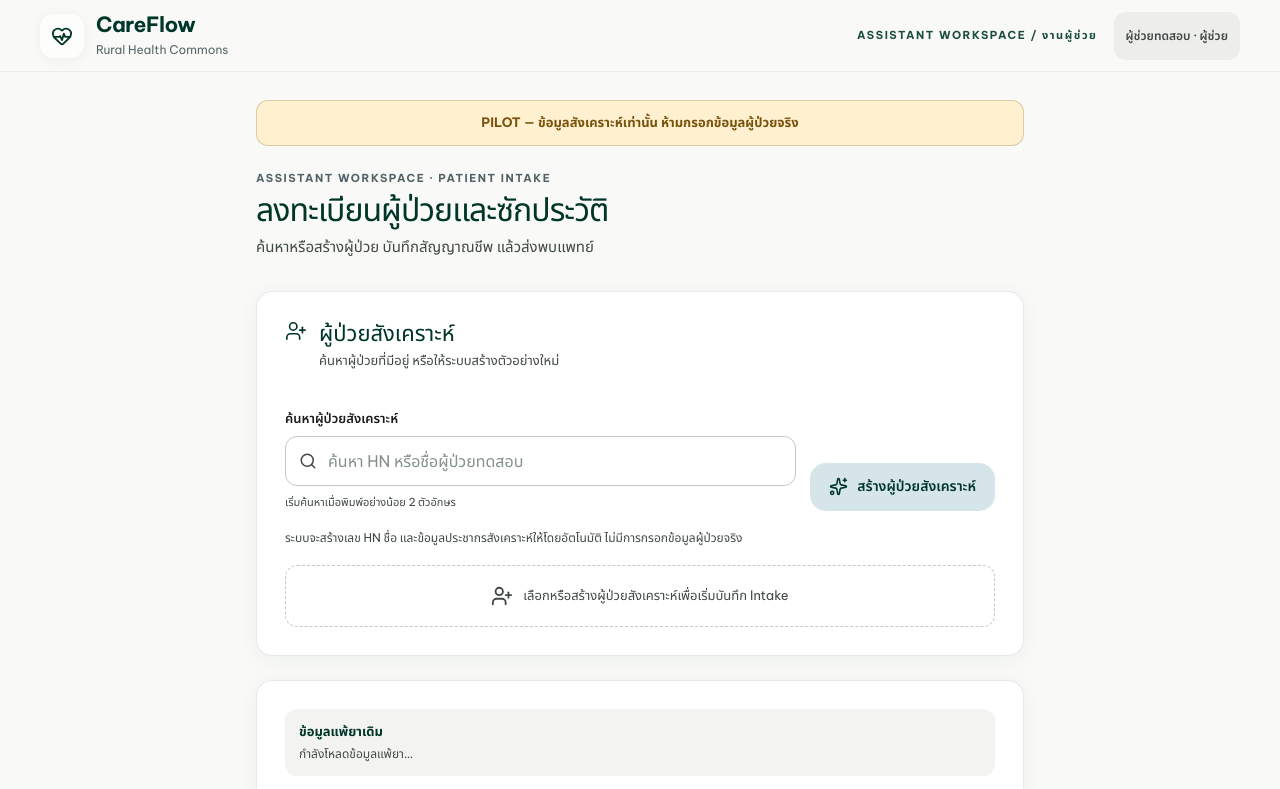
Test case: connected Intake journey › requires a reason before changing a resolved Allergy assessment during Intake
The image size is (1280, 789).
Type "000123" into the field at (541, 461), box [285, 436, 796, 486]
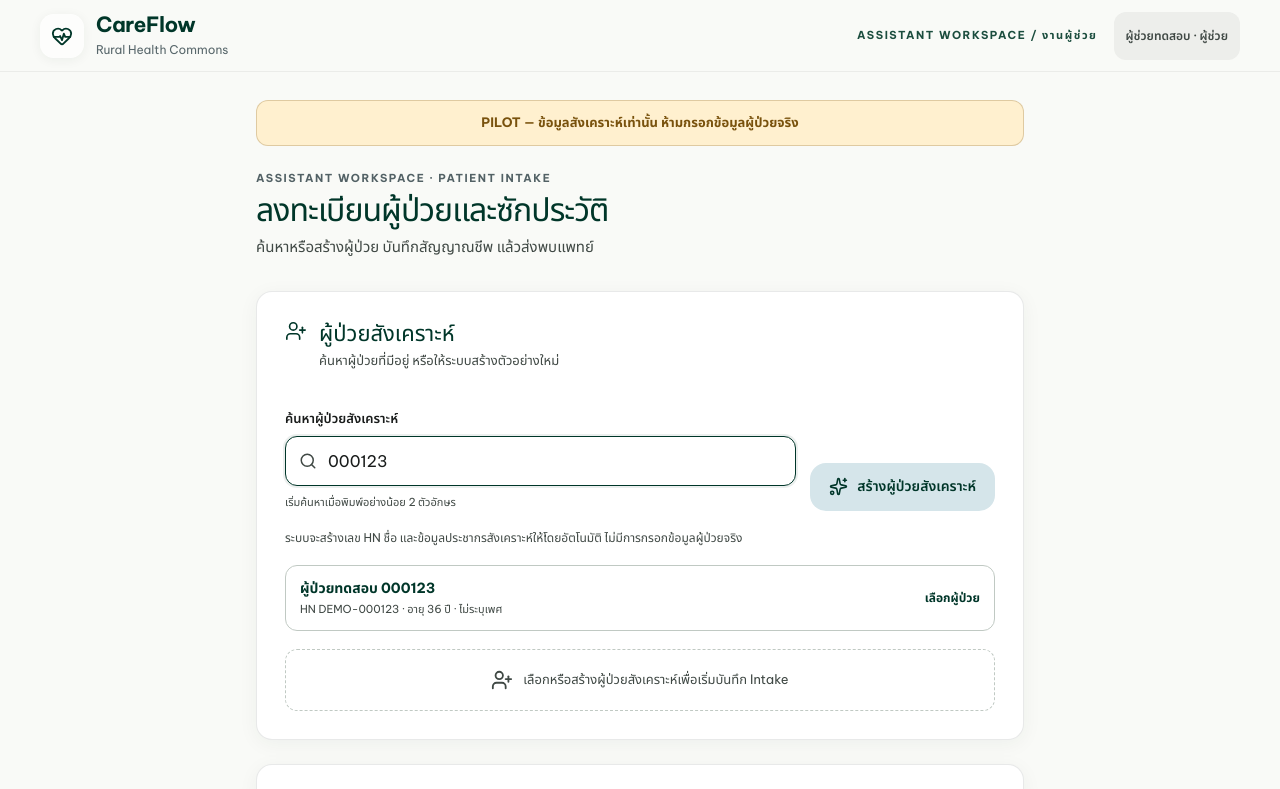
expect the text "ผู้ป่วยทดสอบ 000123" is shown: met, box [300, 579, 435, 597]
Click the button "เลือกผู้ป่วย" at (368, 588), box [286, 566, 994, 630]
(page scrolled)
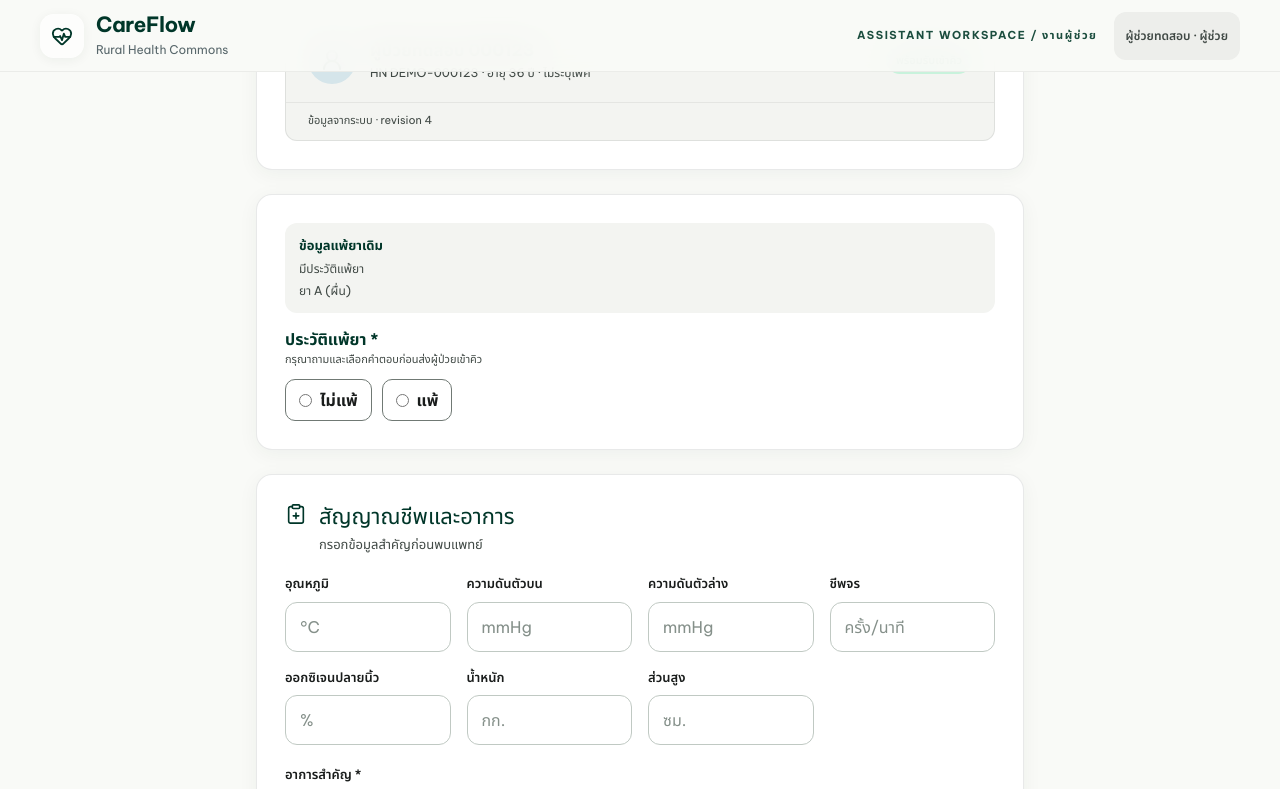
Click the radio button labelled "ไม่แพ้" at (306, 400), box [299, 394, 312, 407]
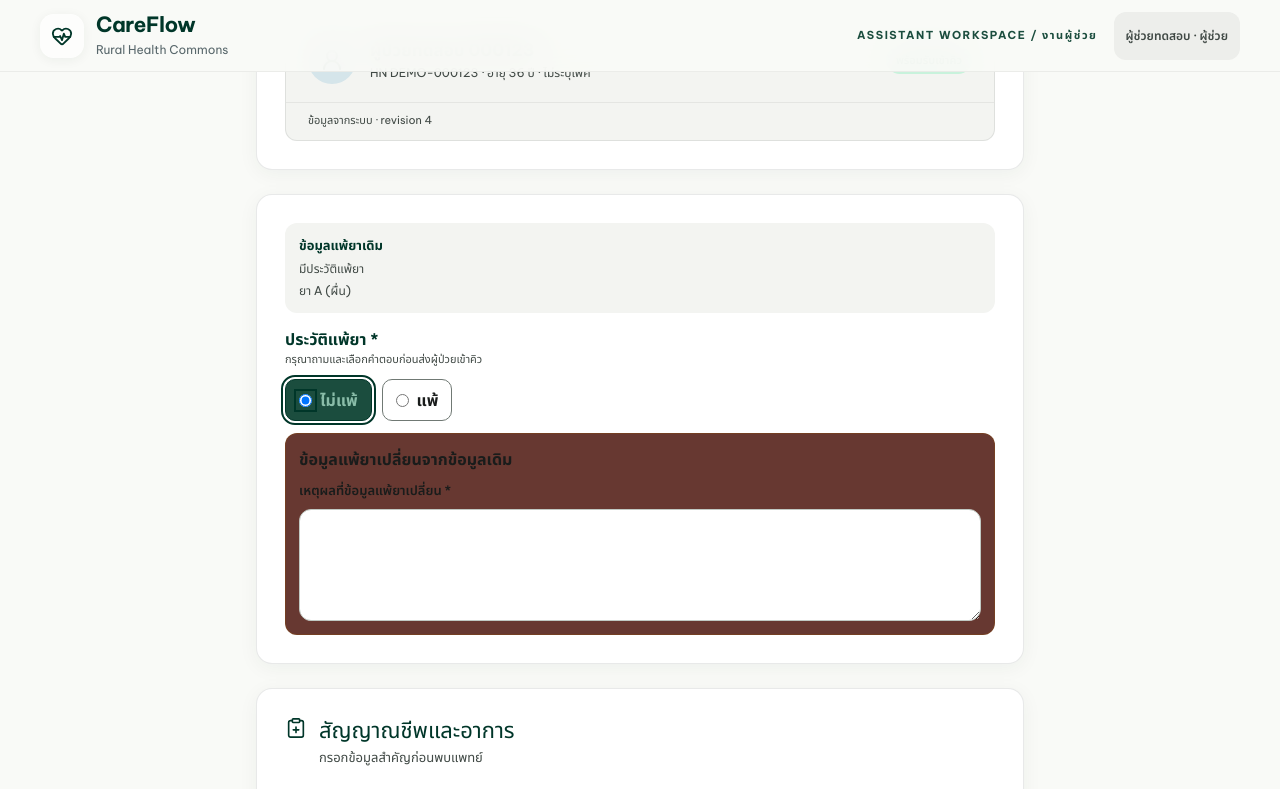
expect the message shows "ข้อมูลแพ้ยาเปลี่ยนจากข้อมูลเดิม": met, box [299, 449, 512, 469]
expect the text box labelled "เหตุผลที่ข้อมูลแพ้ยาเปลี่ยน *" is shown: met
Type "ผู้ป่วยยืนยันว่าไม่แพ้" into the text box labelled "เหตุผลที่ข้อมูลแพ้ยาเปลี่ยน *" at (640, 565), box [299, 509, 981, 621]
(page scrolled)
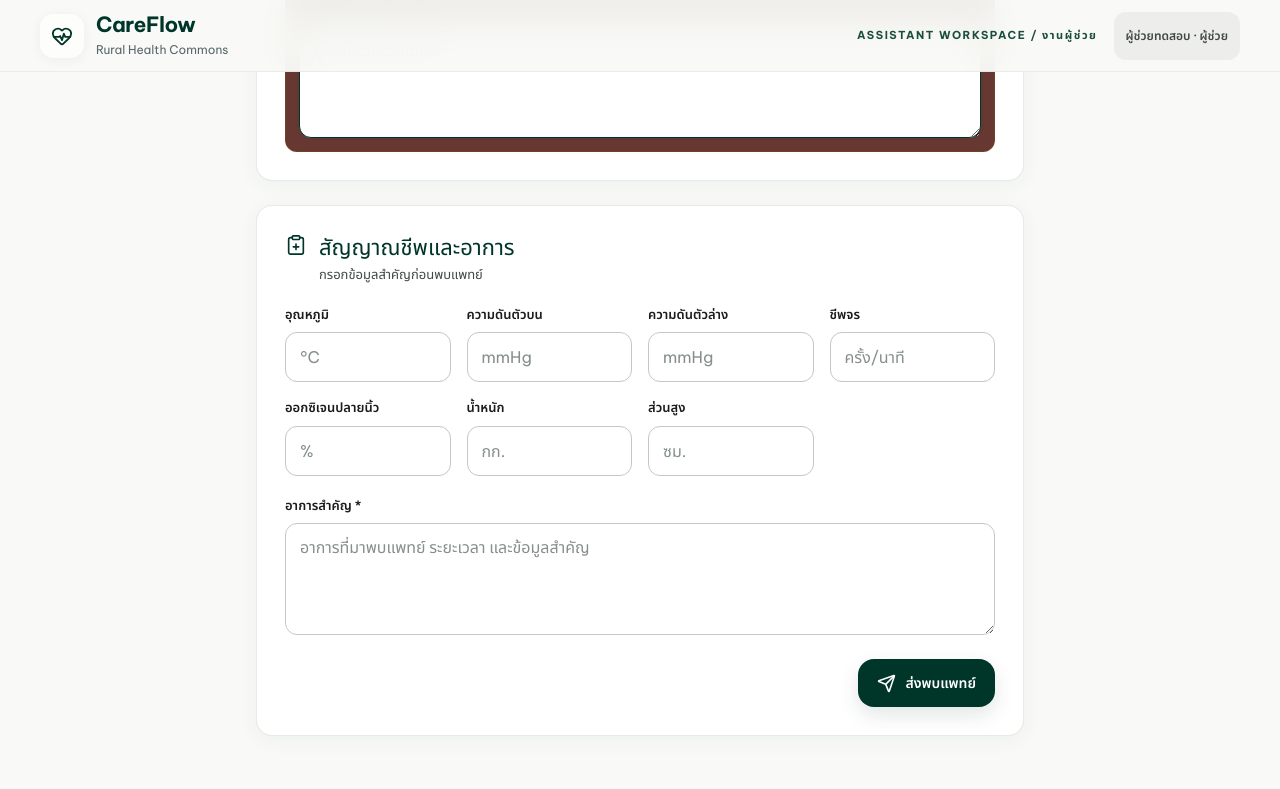
expect the button "ส่งพบแพทย์" is enabled: met, box [858, 659, 995, 707]
